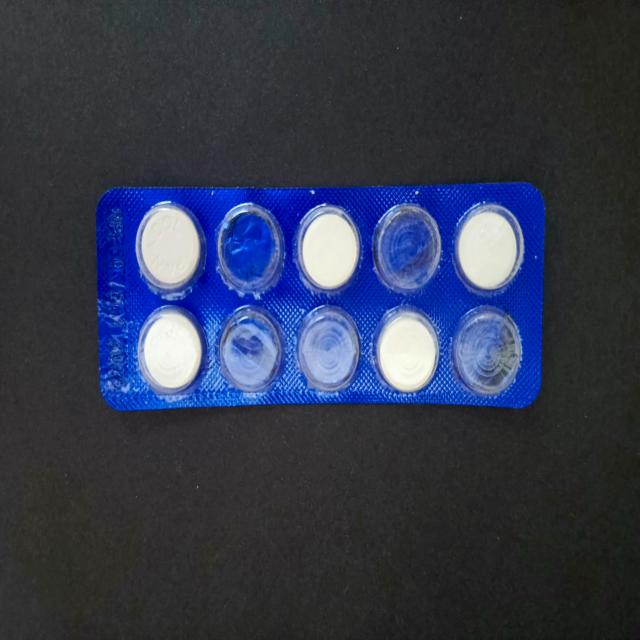defect: (370, 200, 443, 298), (215, 200, 287, 299), (449, 304, 524, 398), (216, 301, 285, 397), (294, 301, 362, 394)
